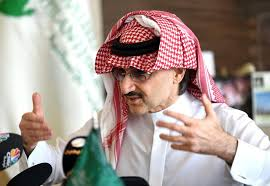middle_eastern_male: (113, 46, 187, 120)
